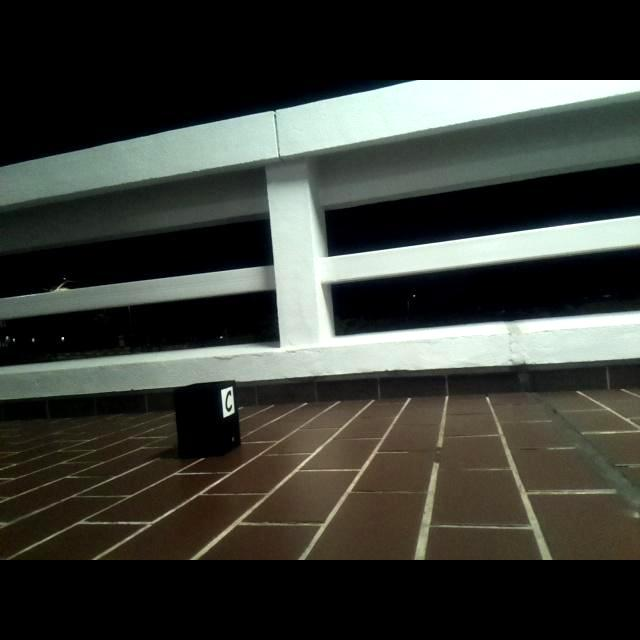C: (225, 391, 232, 412)
